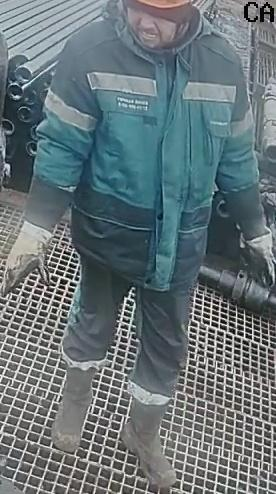gloves: (1, 220, 54, 296), (239, 229, 275, 287)
helmet: (114, 0, 201, 9)
vest: (51, 17, 245, 290)
